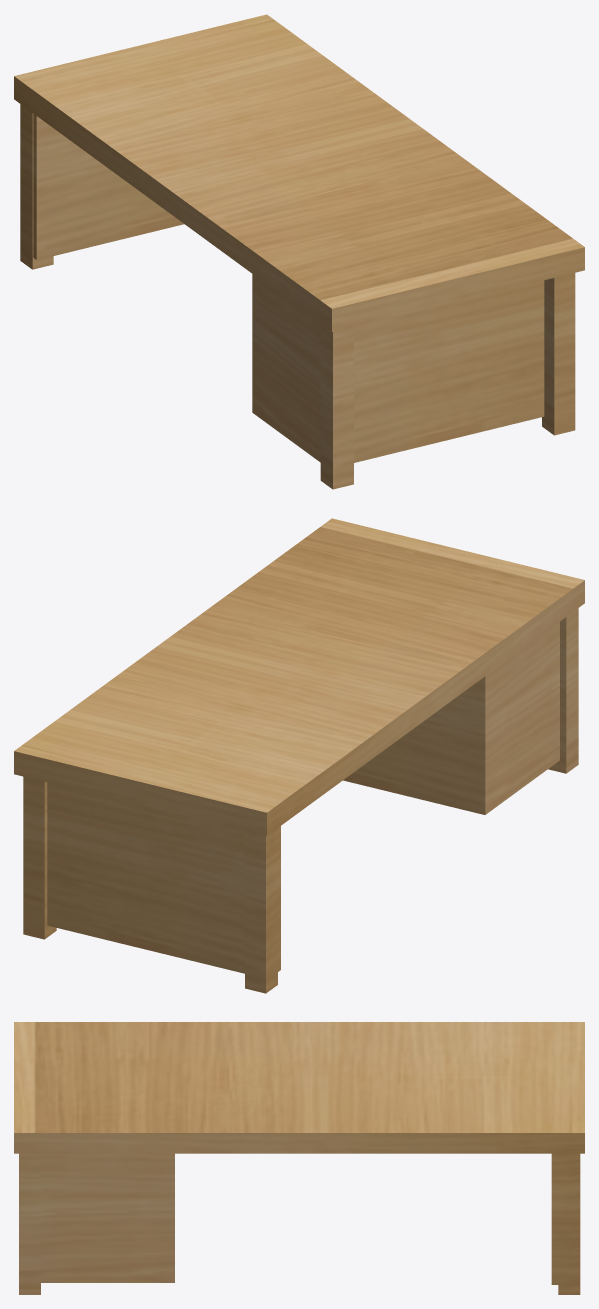
The model's file is table 2.fbx.
3 renders of one model, top to bottom at view 1: azimuth 30°, elevation 25°; view 2: azimuth 150°, elevation 25°; view 3: azimuth 270°, elevation 25°, orthographic. The views are drawn at different scales.
Visible parts, largest first — view 1: Plane.001; view 2: Plane.001; view 3: Plane.001.
Part boxes in pixels (left/top/right/bottom): Plane.001: left=14, top=14, right=584, bottom=489; Plane.001: left=14, top=518, right=584, bottom=993; Plane.001: left=14, top=1022, right=584, bottom=1294.
Bounding box in the file's own units: 418 × 133 × 192.
Materials: 1 (1 with a texture image).
